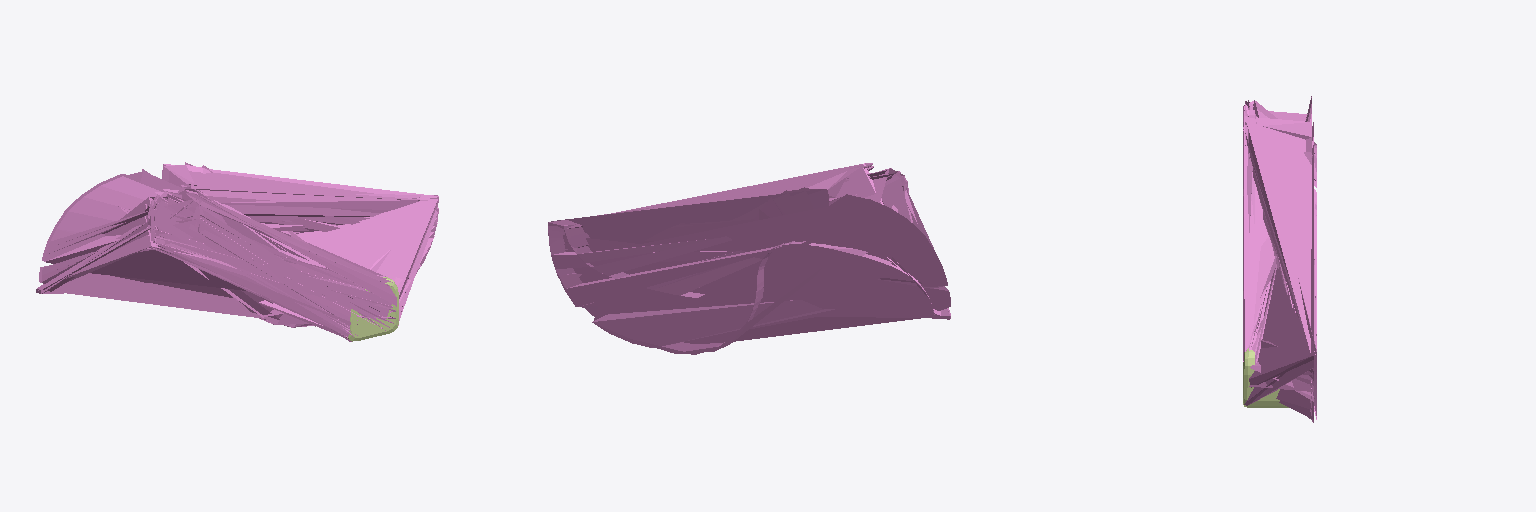
Rendered from copacabana.obj.
3 views of the same model, side by side, from view 1: azimuth 30°, elevation 25°; view 2: azimuth 150°, elevation 25°; view 3: azimuth 270°, elevation 25° (orthographic).
Parts seen in each view (by area): view 1: Plane001, Box001; view 2: Plane001; view 3: Plane001, Box001.
Part boxes in pixels (x1,y1,x2,y2): Plane001: (36,162,438,341); Box001: (346,277,398,341); Plane001: (548,163,950,354); Plane001: (1243,96,1316,422); Box001: (1243,348,1288,407).
Size of the model in its own units: 169 by 82.41 by 27.28.